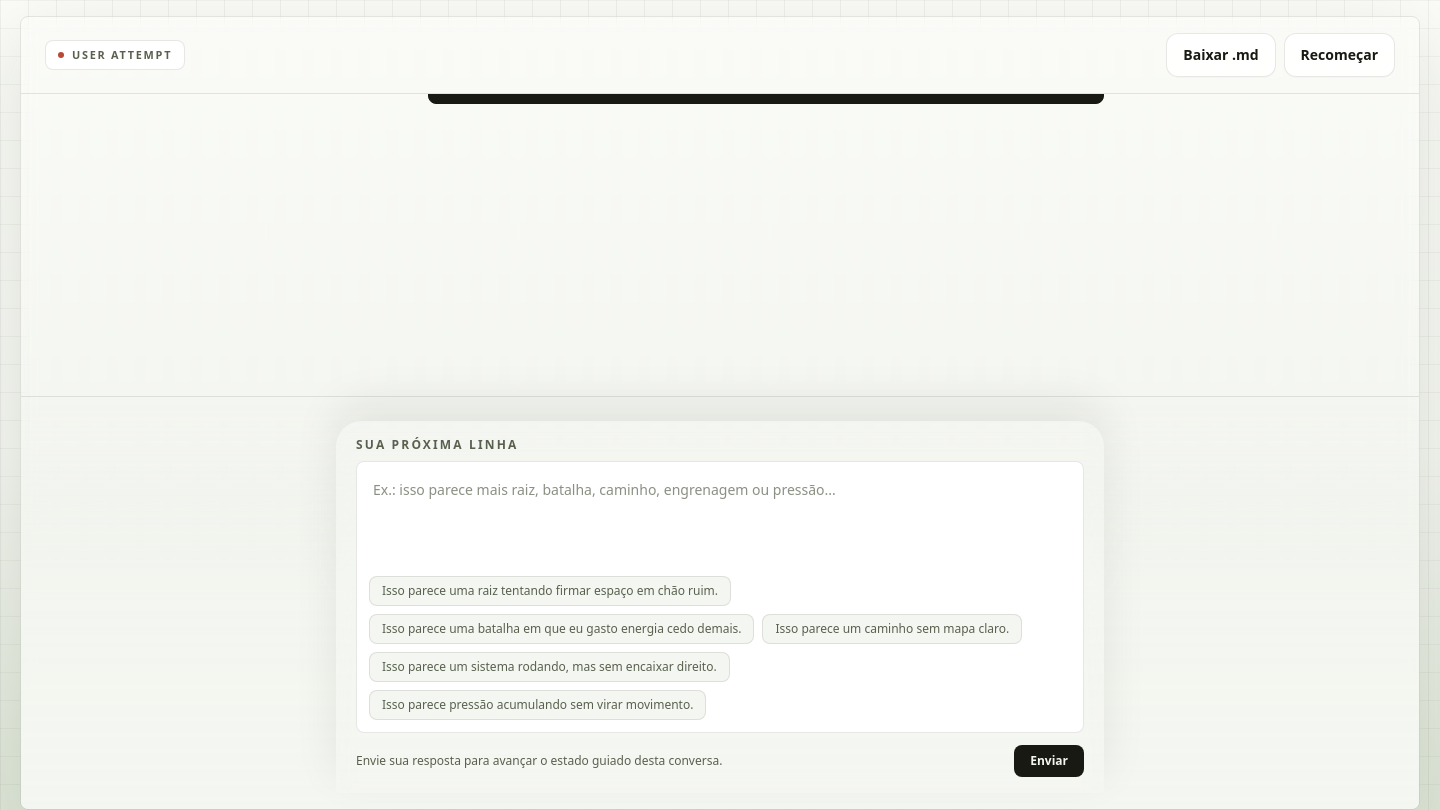
Test case: ChatSessionPageClient › starts a fresh session in the same mode when the user restarts
(page scrolled)
Click the button "Recomeçar": point(1339, 55) [1284,33,1395,77]
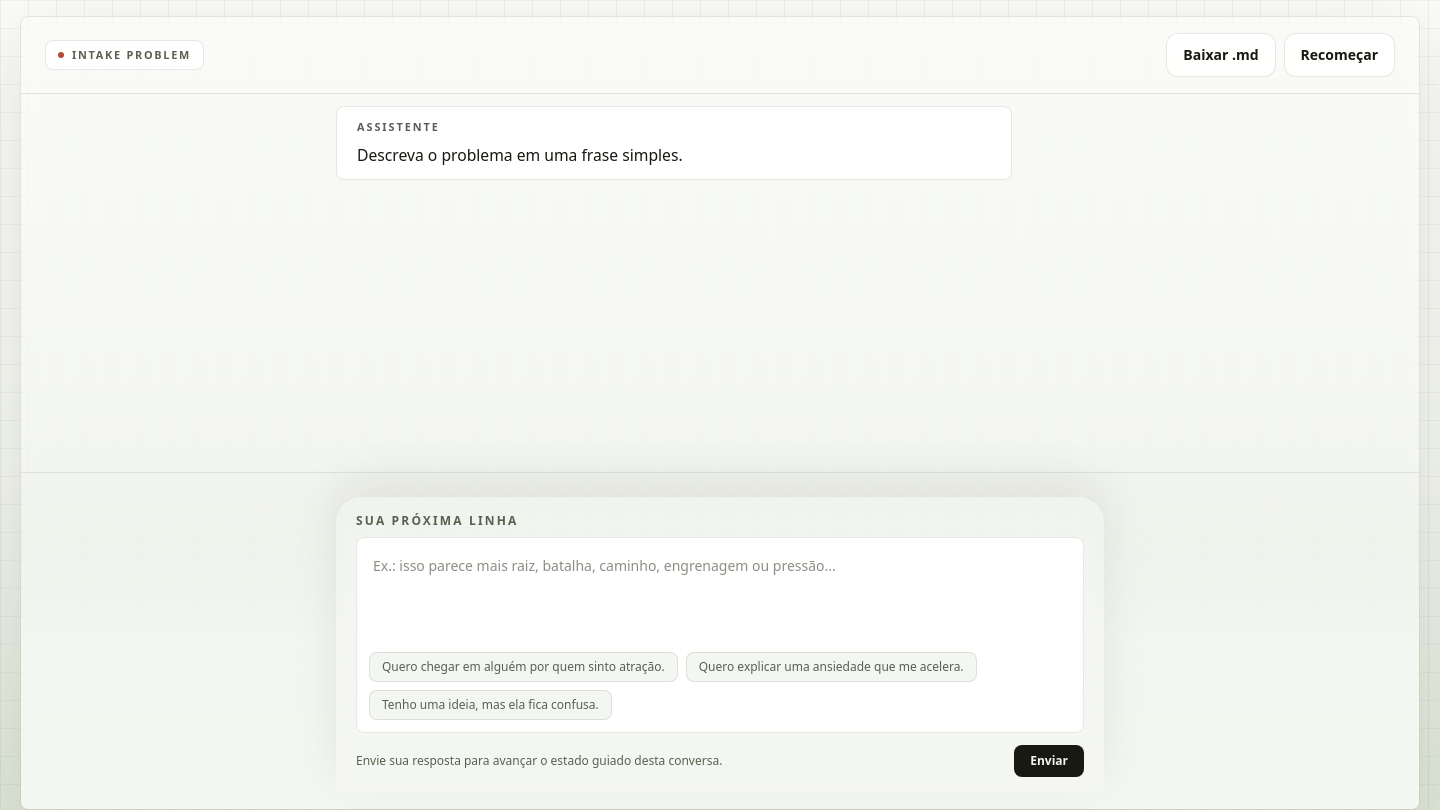
Now the text "Descreva o problema em uma frase simples." is shown, box [357,144,683,166]
